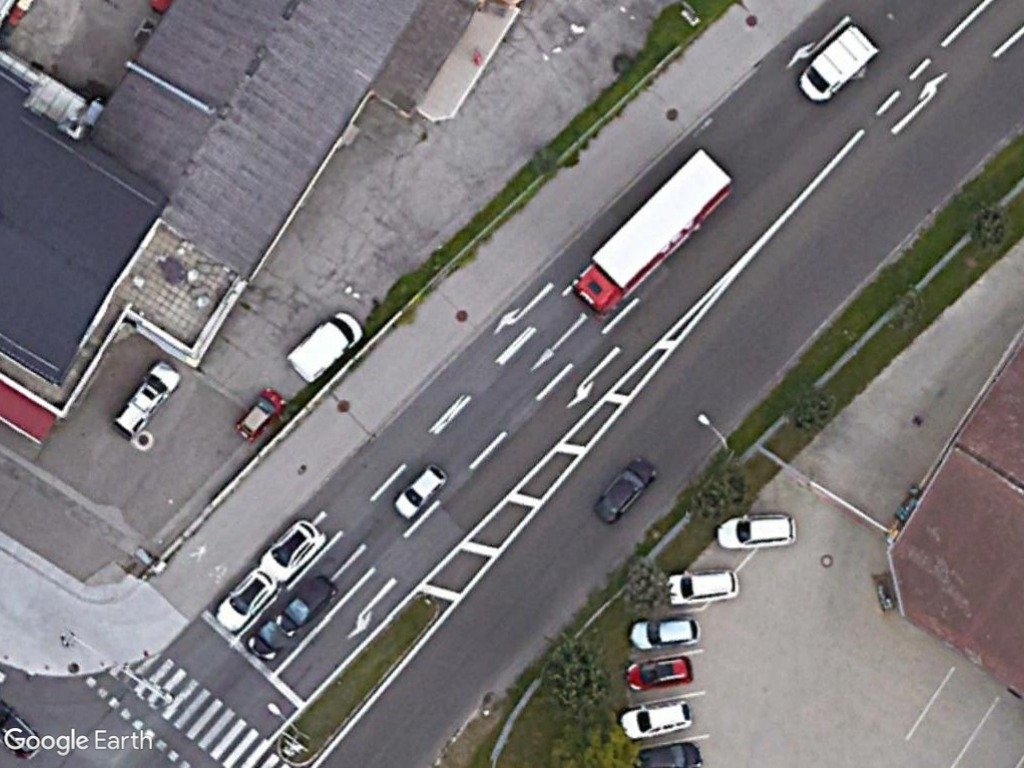car: (588, 450, 662, 526), (274, 565, 340, 638), (259, 514, 324, 582), (211, 569, 273, 636), (710, 509, 799, 555), (658, 564, 742, 612), (617, 696, 698, 742), (389, 459, 447, 523), (623, 611, 704, 651), (235, 384, 286, 443), (621, 656, 697, 695)
other: (114, 355, 187, 435)
truck: (572, 145, 737, 320)
van: (796, 23, 884, 106), (284, 303, 362, 385)
